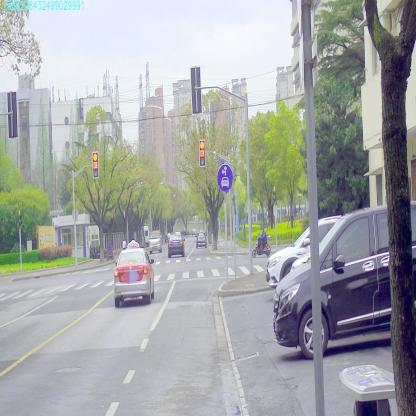traffic-light: (92, 152, 98, 178), (199, 140, 205, 166)
